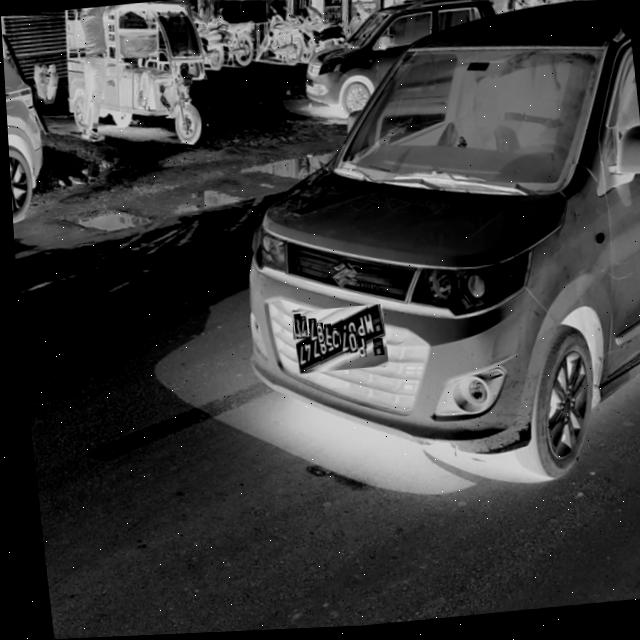0: (343, 336, 353, 357)
4: (296, 322, 304, 341)
7: (305, 325, 315, 345), (337, 334, 346, 356), (290, 319, 299, 341)
8: (312, 327, 321, 347)
C: (327, 332, 336, 352)
F: (320, 329, 329, 350)
IND: (368, 341, 380, 359)
Indian_registered: (291, 308, 380, 374)
M: (360, 340, 371, 361)
P: (353, 340, 363, 360)
